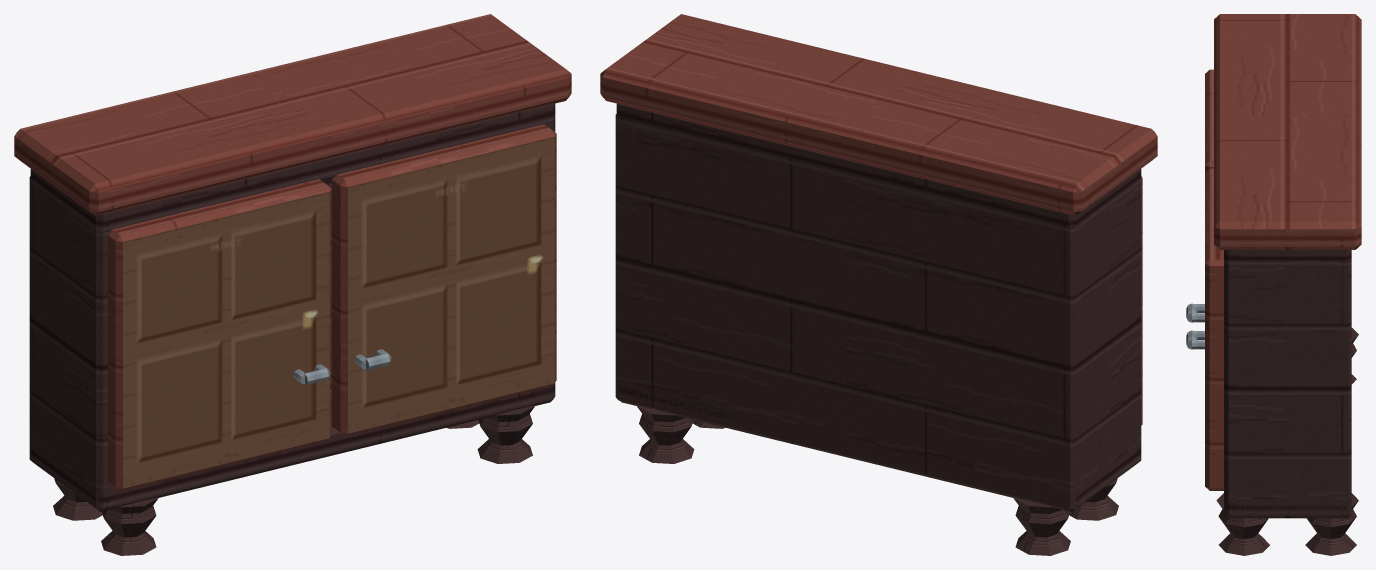
Rendered from MD_45_WallCupboard.fbx.
3 views of the same model, side by side, from view 1: azimuth 30°, elevation 25°; view 2: azimuth 150°, elevation 25°; view 3: azimuth 270°, elevation 25° (orthographic). The views are drawn at different scales.
Visible parts, largest first — view 1: MD_45_WallCupboard_hinged_door.001, MD_45_WallCupboard_hinged_door, MD_45_WallCupboard_cabinet_crown, MD_45_WallCupboard_cabinet_side, MD_45_WallCupboard_cabinet_shelf.001, MD_45_WallCupboard_cabinet_shelf, MD_45_WallCupboard_turned_leg, MD_45_WallCupboard_turned_leg.002, MD_45_WallCupboard_cabinet_back, MD_45_WallCupboard_turned_leg.001; view 2: MD_45_WallCupboard_cabinet_back, MD_45_WallCupboard_cabinet_crown, MD_45_WallCupboard_cabinet_side, MD_45_WallCupboard_cabinet_shelf.001, MD_45_WallCupboard_cabinet_shelf, MD_45_WallCupboard_cabinet_side.001, MD_45_WallCupboard_turned_leg.001, MD_45_WallCupboard_turned_leg.003, MD_45_WallCupboard_turned_leg; view 3: MD_45_WallCupboard_cabinet_crown, MD_45_WallCupboard_cabinet_side.001, MD_45_WallCupboard_hinged_door.001, MD_45_WallCupboard_cabinet_back, MD_45_WallCupboard_cabinet_shelf, MD_45_WallCupboard_cabinet_shelf.001, MD_45_WallCupboard_turned_leg.003, MD_45_WallCupboard_turned_leg.002, MD_45_WallCupboard_hinged_door.
Boxes of the visible parts, bbox=[...] form: MD_45_WallCupboard_hinged_door.001: bbox=[331, 124, 556, 436]; MD_45_WallCupboard_hinged_door: bbox=[108, 179, 331, 491]; MD_45_WallCupboard_cabinet_crown: bbox=[14, 14, 571, 215]; MD_45_WallCupboard_cabinet_side: bbox=[30, 181, 120, 506]; MD_45_WallCupboard_cabinet_shelf.001: bbox=[30, 103, 555, 232]; MD_45_WallCupboard_cabinet_shelf: bbox=[30, 383, 555, 511]; MD_45_WallCupboard_turned_leg: bbox=[101, 497, 158, 555]; MD_45_WallCupboard_turned_leg.002: bbox=[477, 405, 534, 463]; MD_45_WallCupboard_cabinet_back: bbox=[29, 176, 331, 459]; MD_45_WallCupboard_turned_leg.001: bbox=[53, 478, 102, 520]; MD_45_WallCupboard_cabinet_back: bbox=[615, 113, 1080, 510]; MD_45_WallCupboard_cabinet_crown: bbox=[600, 14, 1157, 215]; MD_45_WallCupboard_cabinet_side: bbox=[1051, 180, 1141, 505]; MD_45_WallCupboard_cabinet_shelf.001: bbox=[616, 103, 1141, 231]; MD_45_WallCupboard_cabinet_shelf: bbox=[618, 381, 1141, 511]; MD_45_WallCupboard_cabinet_side.001: bbox=[618, 119, 636, 401]; MD_45_WallCupboard_turned_leg.001: bbox=[1013, 497, 1070, 555]; MD_45_WallCupboard_turned_leg.003: bbox=[637, 405, 694, 463]; MD_45_WallCupboard_turned_leg: bbox=[1069, 478, 1118, 520]; MD_45_WallCupboard_cabinet_crown: bbox=[1214, 14, 1361, 249]; MD_45_WallCupboard_cabinet_side.001: bbox=[1224, 262, 1346, 514]; MD_45_WallCupboard_hinged_door.001: bbox=[1205, 168, 1223, 490]; MD_45_WallCupboard_cabinet_back: bbox=[1338, 258, 1351, 517]; MD_45_WallCupboard_cabinet_shelf: bbox=[1224, 498, 1347, 518]; MD_45_WallCupboard_cabinet_shelf.001: bbox=[1224, 250, 1351, 266]; MD_45_WallCupboard_turned_leg.003: bbox=[1305, 493, 1358, 555]; MD_45_WallCupboard_turned_leg.002: bbox=[1216, 493, 1269, 555]; MD_45_WallCupboard_hinged_door: bbox=[1205, 69, 1213, 172].
Size of the model in its own units: 1.26 by 0.96 by 0.439.
4 materials, 4 textured.
